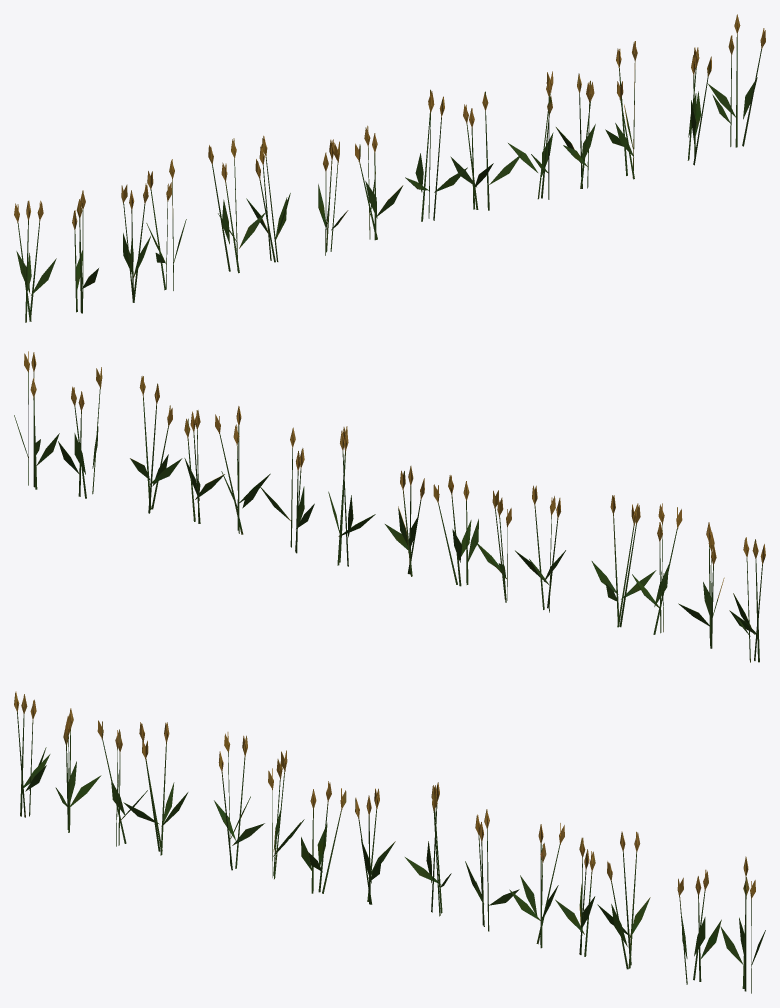
File: farm_rows.glb
3 renders of one model, top to bottom at view 1: azimuth 30°, elevation 25°; view 2: azimuth 150°, elevation 25°; view 3: azimuth 330°, elevation 25°, orthographic.
Parts seen in each view (by area): view 1: farm_rows; view 2: farm_rows; view 3: farm_rows.
Part boxes in pixels (left/top/right/bottom): farm_rows: left=14, top=14, right=765, bottom=322; farm_rows: left=14, top=351, right=765, bottom=662; farm_rows: left=14, top=691, right=765, bottom=993.
Bounding box in the file's own units: 3.68 × 0.6337 × 0.3225.
1 material, 1 textured.
